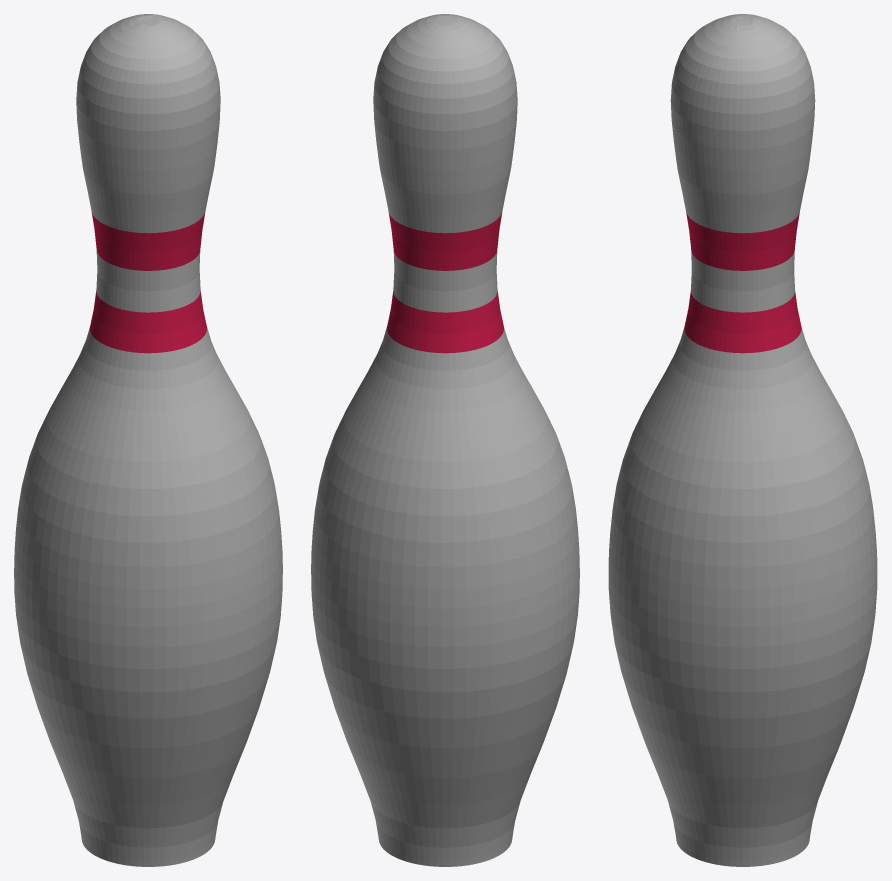
Rendered from pin.fbx.
The picture shows the model from 3 angles, left to right: view 1: azimuth 30°, elevation 25°; view 2: azimuth 150°, elevation 25°; view 3: azimuth 270°, elevation 25°; orthographic projection.
Visible parts, largest first — view 1: Circle; view 2: Circle; view 3: Circle.
Part boxes in pixels (x1,y1,x2,y2): Circle: (14, 14, 282, 866); Circle: (311, 14, 579, 866); Circle: (608, 14, 877, 866).
Size of the model in its own units: 135 by 454 by 135.
